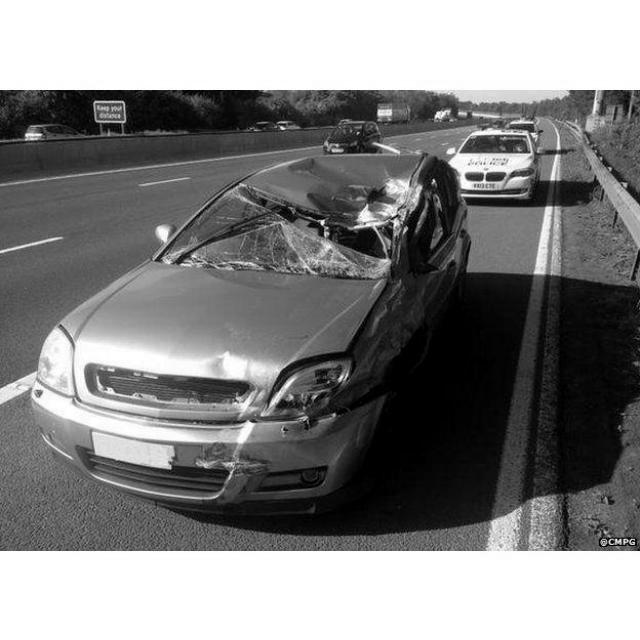Front-windscreen-damage: (166, 194, 398, 279)
Headlight-damage: (248, 337, 375, 434)
bonnet-dent: (59, 288, 385, 392)
front-bumper-dent: (49, 429, 349, 512)
roof-dent: (232, 148, 443, 223)
